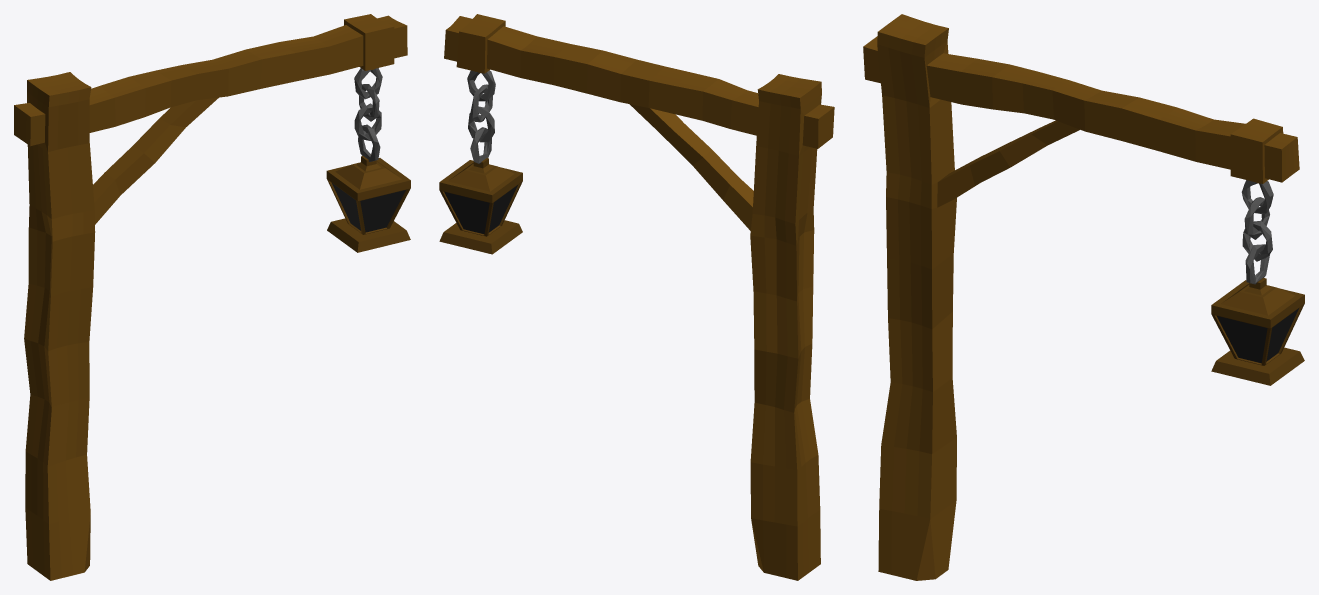
File: rm_prop_lanternpole.fbx
3 views of the same model, side by side, from view 1: azimuth 30°, elevation 25°; view 2: azimuth 150°, elevation 25°; view 3: azimuth 330°, elevation 25° (orthographic). The views are drawn at different scales.
Visible parts, largest first — view 1: RM_Prop_Pole, RM_Prop_Lantern, RM_Prop_Pole_Chains; view 2: RM_Prop_Pole, RM_Prop_Lantern, RM_Prop_Pole_Chains; view 3: RM_Prop_Pole, RM_Prop_Lantern, RM_Prop_Pole_Chains.
Part boxes in pixels (x1=…): RM_Prop_Pole: x1=14, y1=14, x2=407, y2=580; RM_Prop_Lantern: x1=326, y1=156, x2=410, y2=252; RM_Prop_Pole_Chains: x1=354, y1=68, x2=382, y2=161; RM_Prop_Pole: x1=444, y1=14, x2=834, y2=580; RM_Prop_Lantern: x1=439, y1=158, x2=522, y2=254; RM_Prop_Pole_Chains: x1=467, y1=70, x2=495, y2=163; RM_Prop_Pole: x1=863, y1=14, x2=1299, y2=580; RM_Prop_Lantern: x1=1211, y1=278, x2=1304, y2=385; RM_Prop_Pole_Chains: x1=1241, y1=180, x2=1273, y2=284.
Bounding box in the file's own units: 227 × 280 × 32.31.
